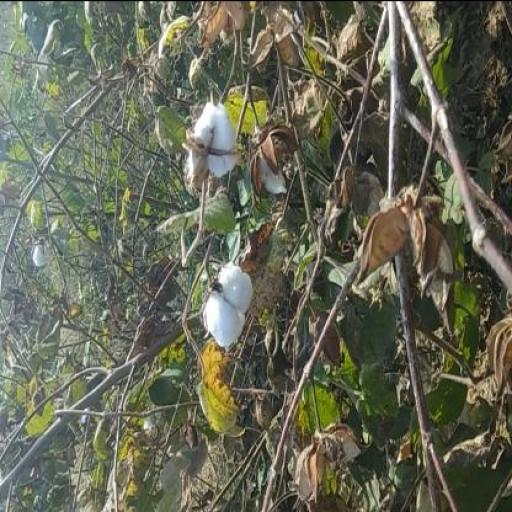cotton_ready: (178, 68, 256, 210), (203, 233, 275, 364)
